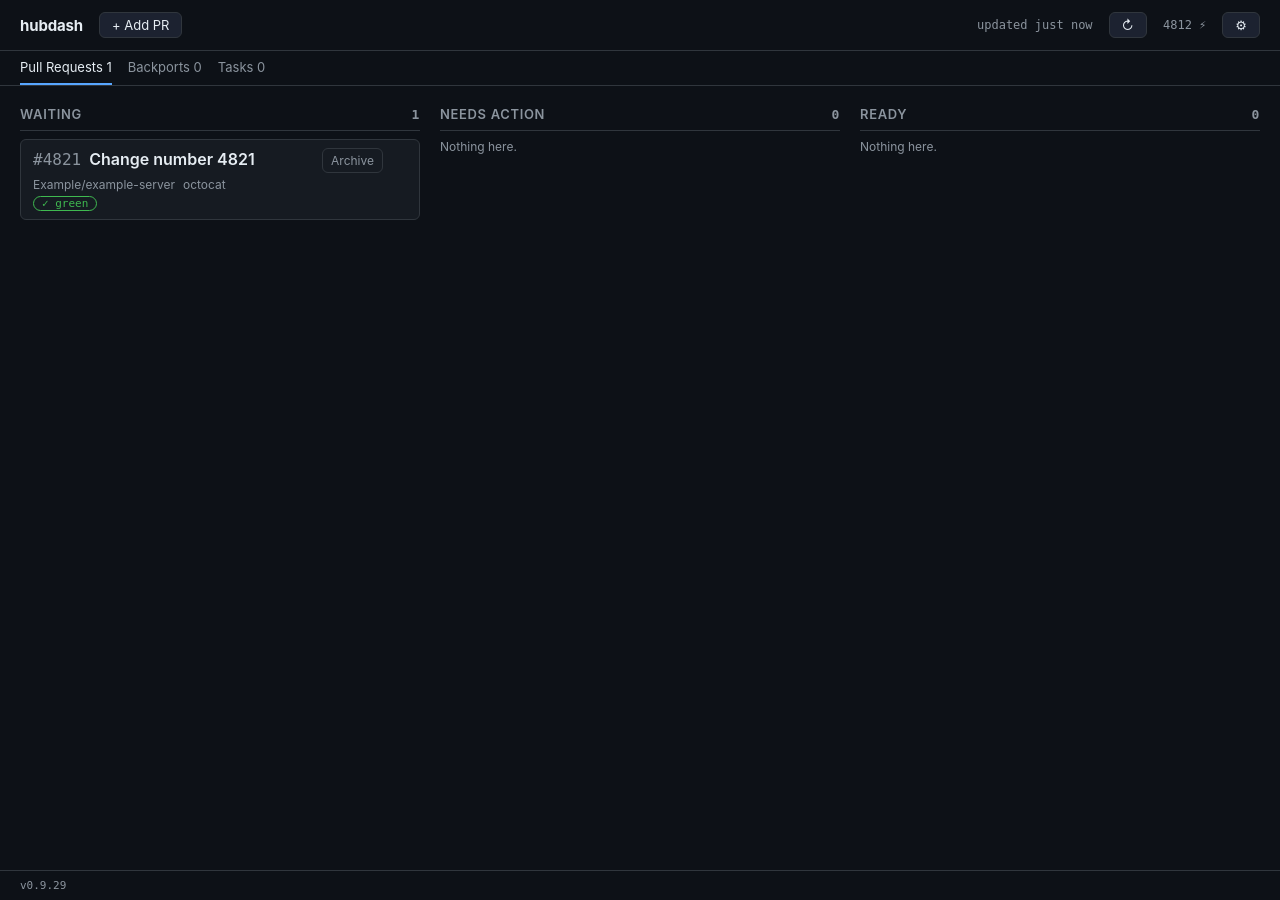
App — failure handling › keeps the last good board on screen when a poll fails
Expected: the text "#4821" is shown, [33,150,81,169]
Step 1. Click the button named "refresh" → (1128, 25), box [1109,12,1147,38]
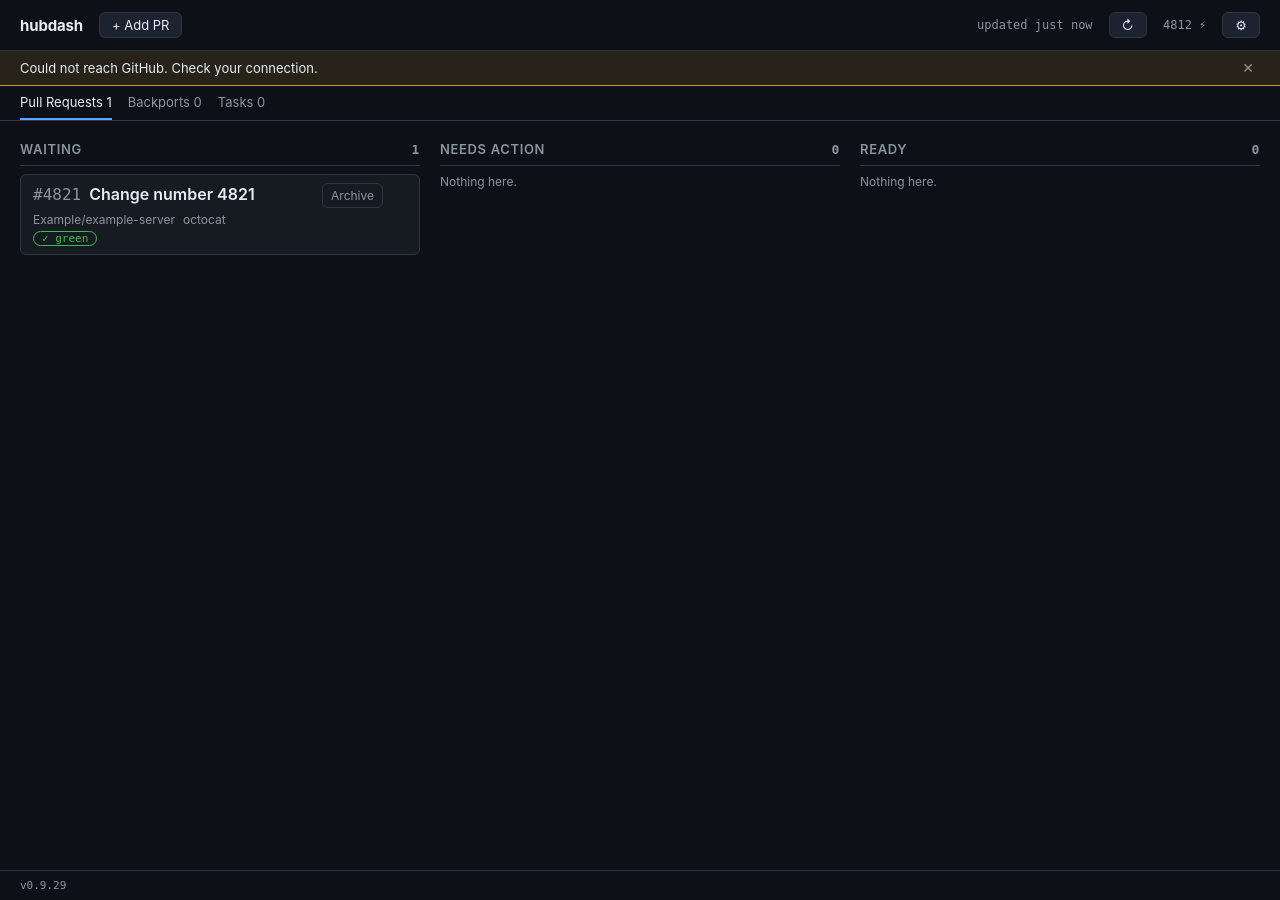
Expected: the text "#4821" is shown, [33,185,81,204]
Expected: the message with test id "banner" shows "Could not reach", [20,60,318,76]
